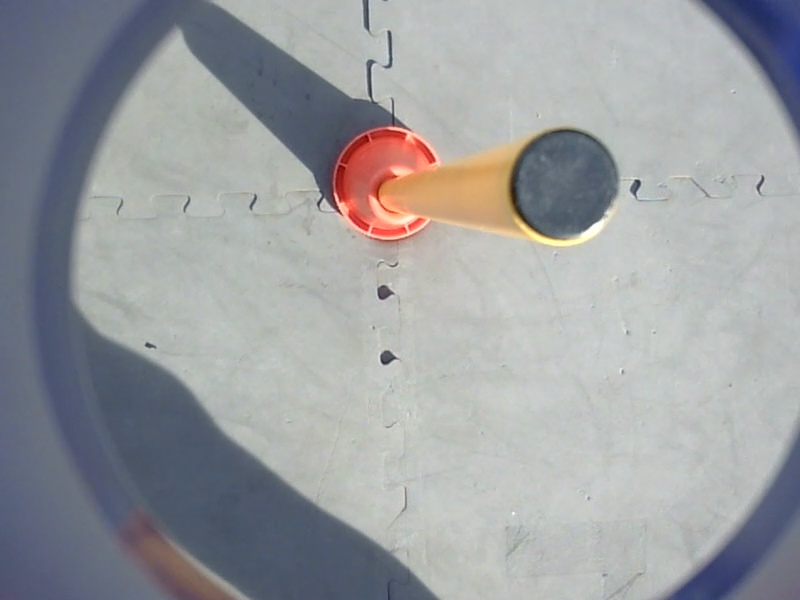tip: (500, 116, 627, 253)
